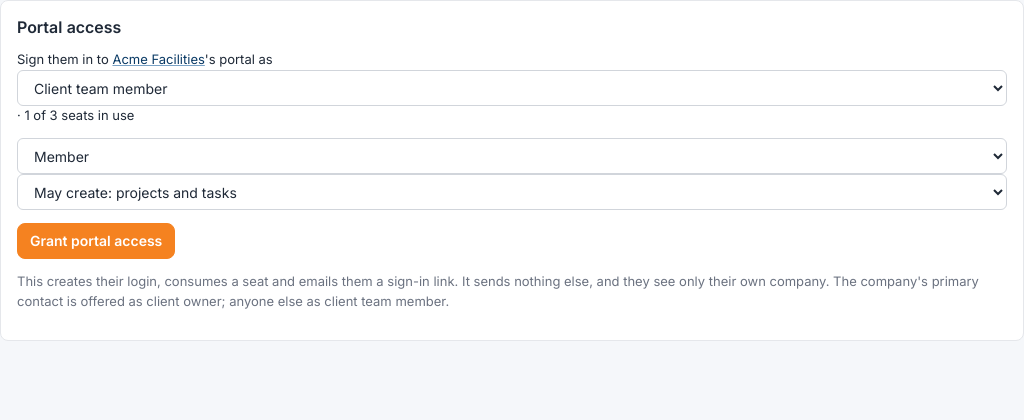
Test: GrantPortalAccess › grants from the contact page with no search involved
expect the text "1 of 3 seats in use" is shown: met, box 17,106 -> 134,122
expect the dropdown named "Portal role" shows "Client team member": met, box 17,70 -> 1007,106
Click the button "Grant portal access" at (96, 241), box 17,223 -> 175,259
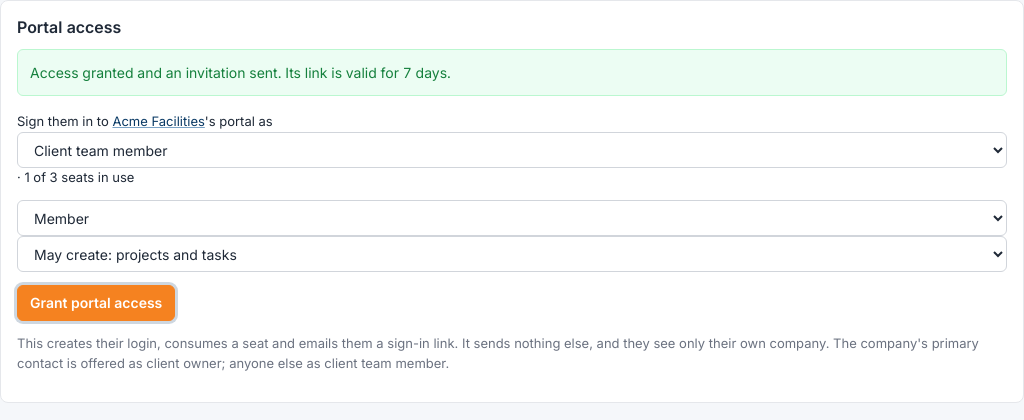
expect the text "Access granted and an invitation sent" is shown: met, box 30,64 -> 451,81
